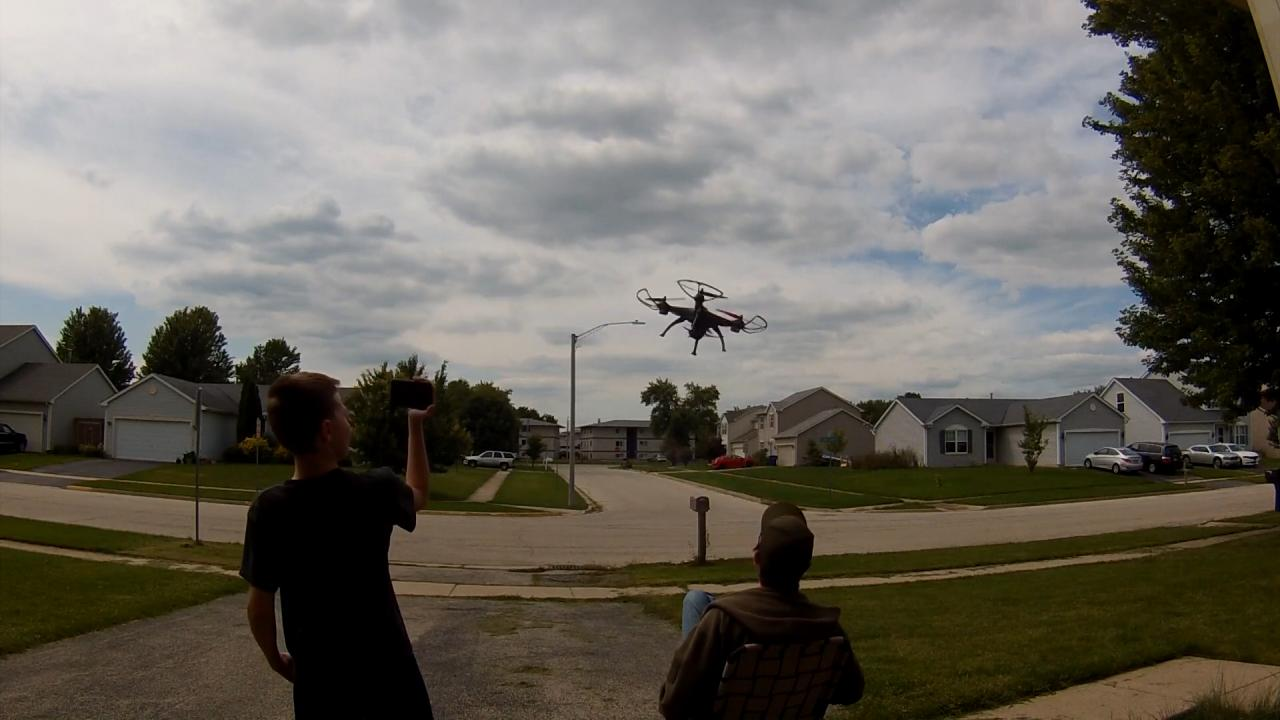Drone: (627, 270, 776, 366)
